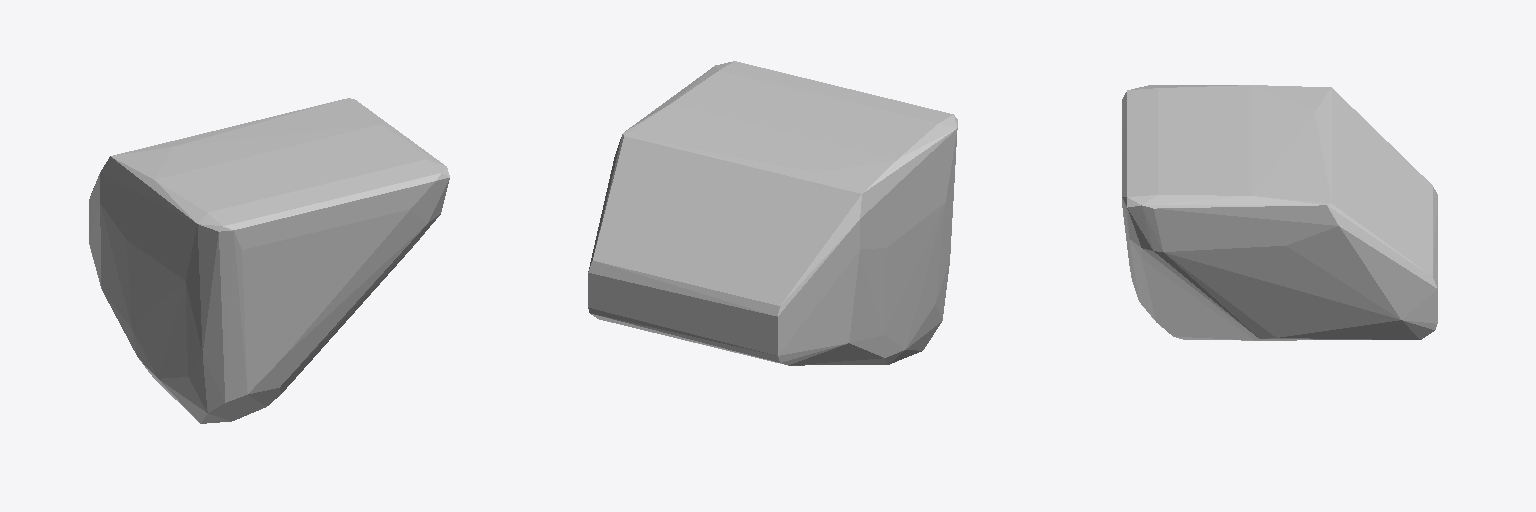
The model's file is l_distal_convex.obj.
3 renders of one model, left to right at view 1: azimuth 30°, elevation 25°; view 2: azimuth 150°, elevation 25°; view 3: azimuth 270°, elevation 25°, orthographic.
Visible parts, largest first — view 1: convex_0; view 2: convex_0; view 3: convex_0.
Boxes of the visible parts, <box> form: convex_0: <box>89,98,449,423</box>; convex_0: <box>588,61,957,365</box>; convex_0: <box>1122,85,1437,340</box>.
Bounding box in the file's own units: 0.0395 × 0.0348 × 0.0434.